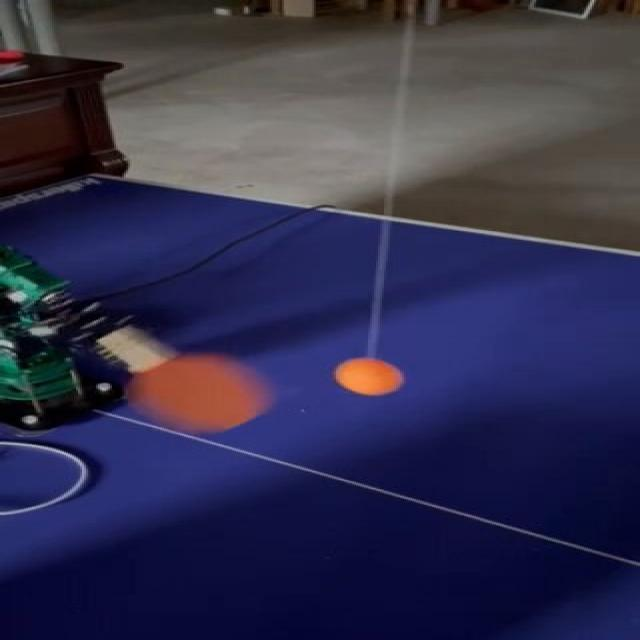ping-pong-ball: (332, 356, 406, 394)
